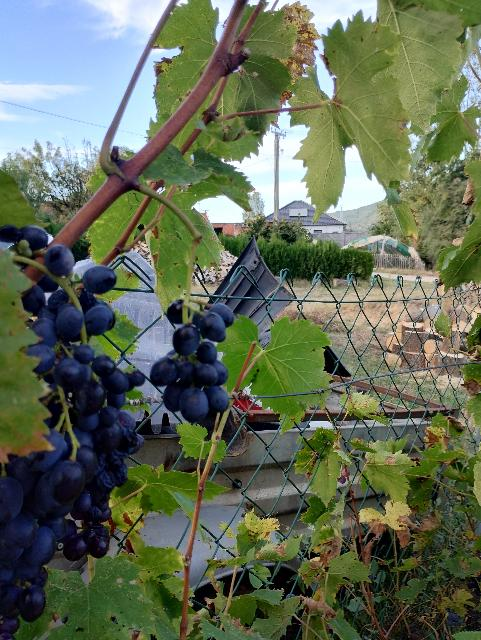grapes: (150, 299, 235, 422)
